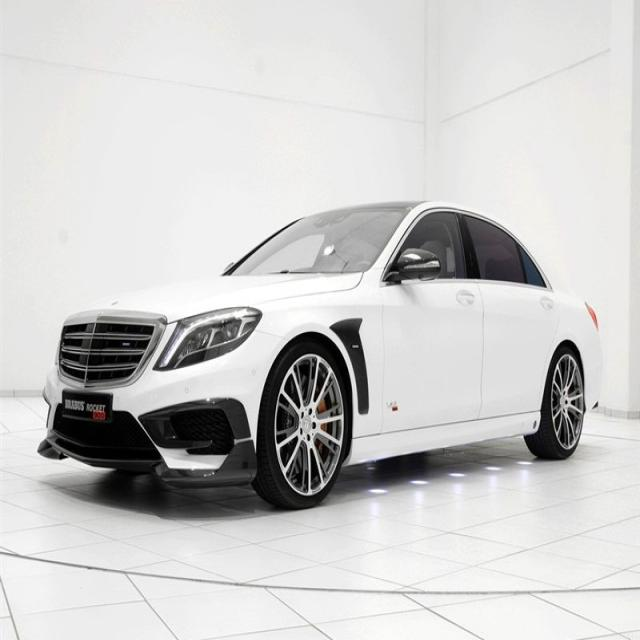back_left_side_light: (576, 292, 607, 338)
door: (458, 209, 563, 424)
front_bumper: (30, 360, 262, 493)
front_glass: (216, 195, 422, 295)
front_left_side_door: (368, 201, 487, 447)
front_left_side_light: (150, 300, 265, 385)
front_left_side_mirror: (386, 244, 451, 292)
wheel: (256, 334, 350, 518), (522, 338, 592, 472)
